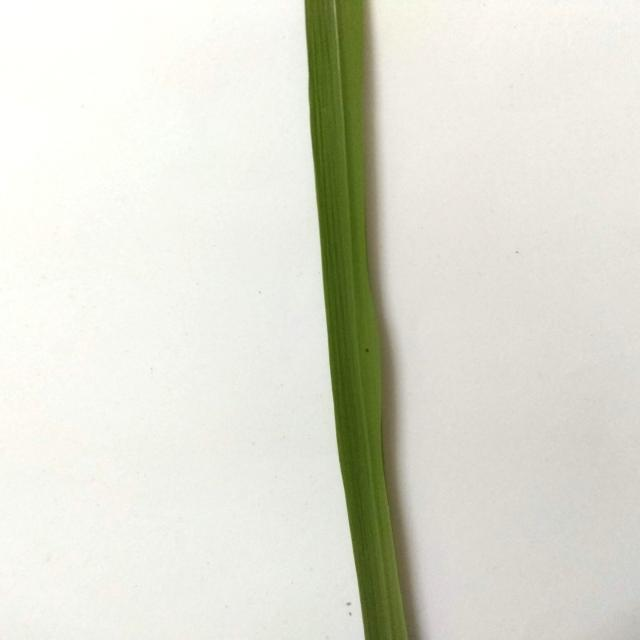Rice_Healthy: (305, 0, 408, 640)
